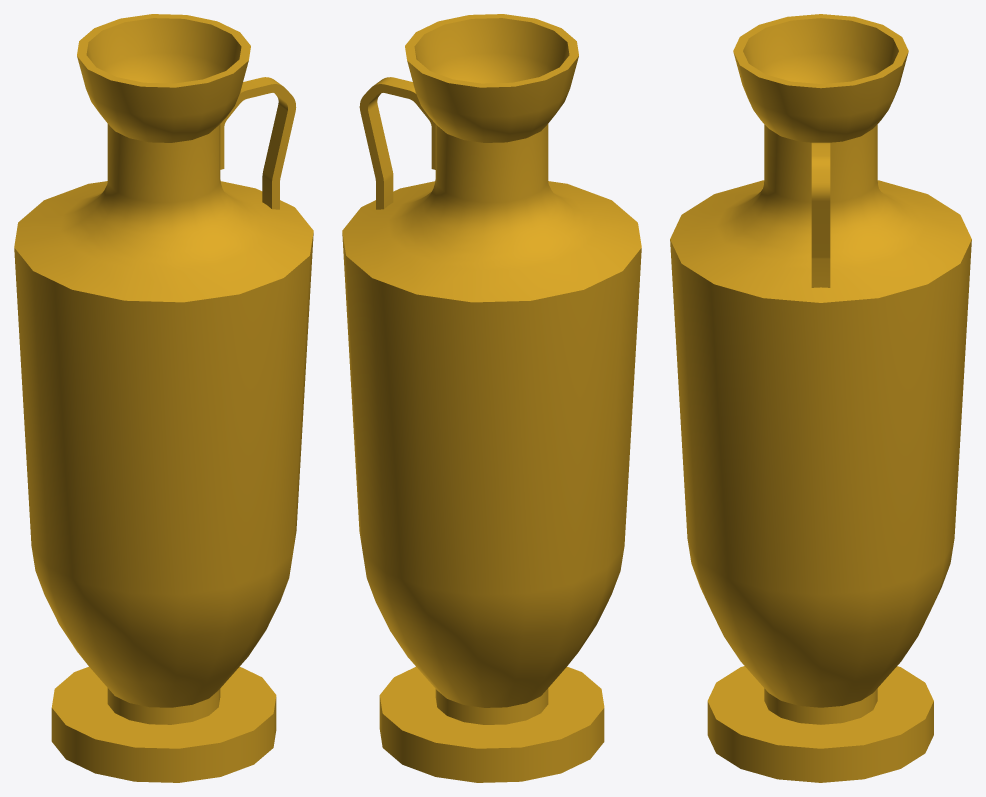
Rendered from Vase.dae.
3 renders of one model, left to right at view 1: azimuth 30°, elevation 25°; view 2: azimuth 150°, elevation 25°; view 3: azimuth 270°, elevation 25°, orthographic.
Visible parts, largest first — view 1: Group1, Group2; view 2: Group1, Group2; view 3: Group1, Group2.
Part boxes in pixels (x1,y1,x2,y2): Group1: (14,14,313,782); Group2: (220,77,296,209); Group1: (342,14,641,782); Group2: (359,77,435,209); Group1: (670,14,971,782); Group2: (811,142,830,287).
Bounding box in the file's own units: 0.16 × 0.16 × 0.4.
